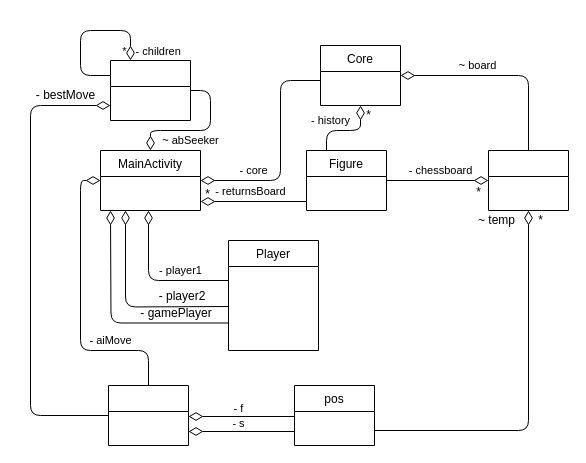
Image size: 586x463. Some labels were removed from this diagram. Each missing label, with the box of its shape:
AI: (110, 60, 190, 120)
Board: (488, 150, 568, 210)
vec: (108, 384, 188, 446)
